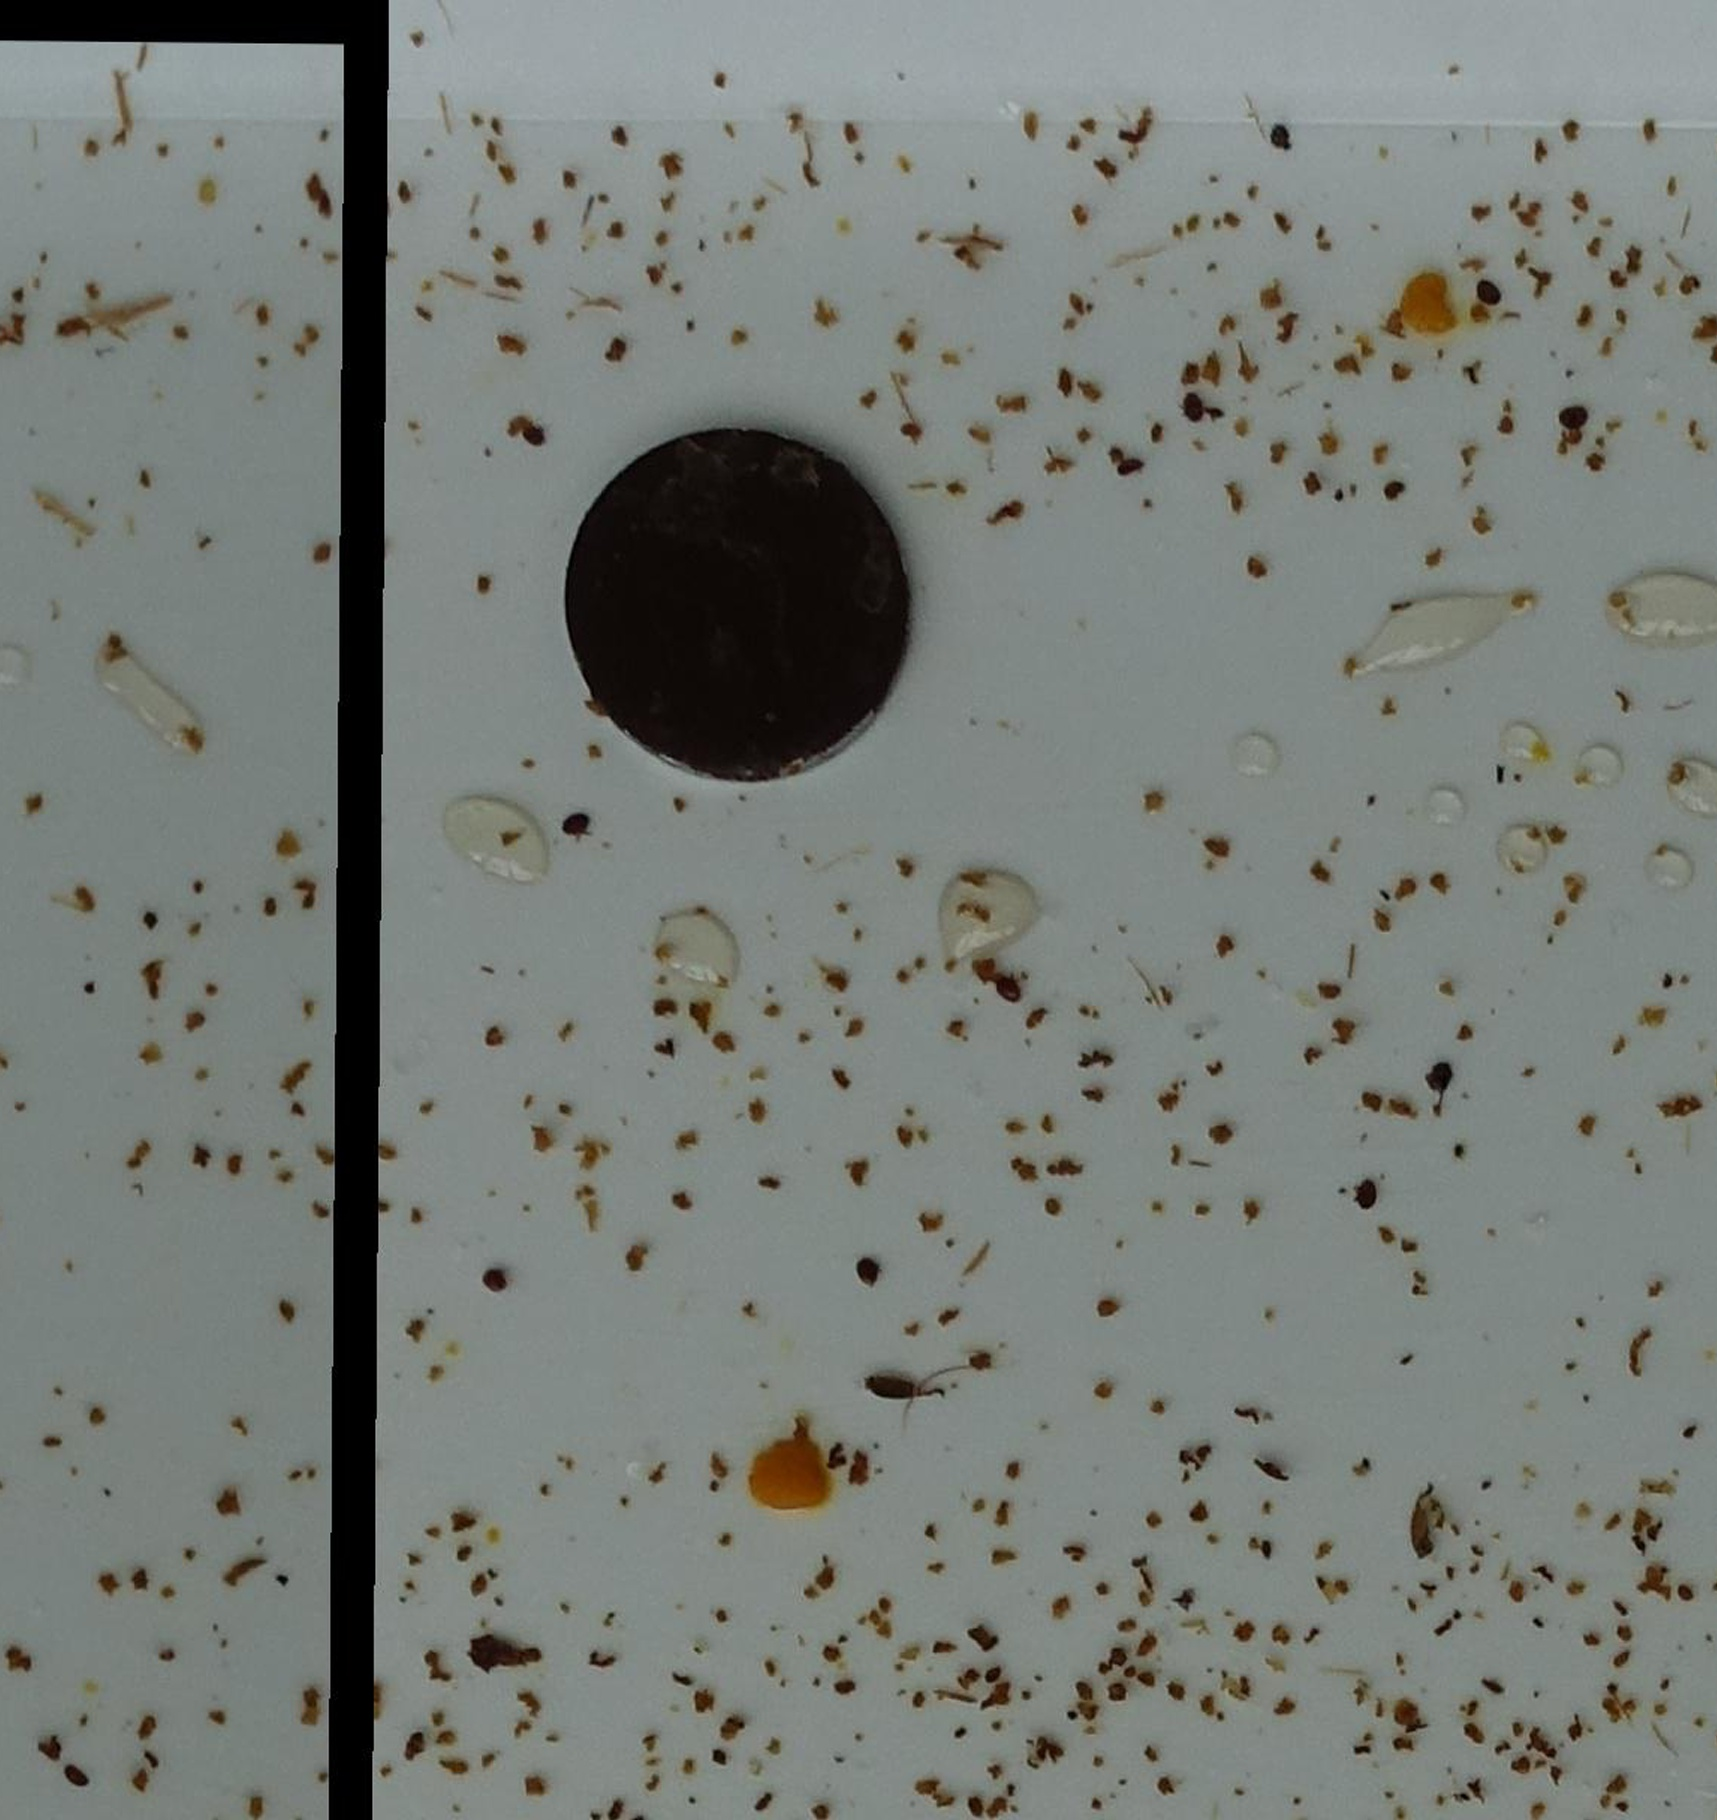Varroa: (852, 1252, 891, 1296), (562, 802, 594, 841), (61, 1759, 94, 1793), (1477, 278, 1506, 315), (1351, 1178, 1381, 1210), (474, 1260, 507, 1291), (1560, 407, 1590, 436), (1115, 457, 1144, 486), (996, 971, 1023, 1002), (520, 415, 547, 445), (1176, 394, 1204, 423)
